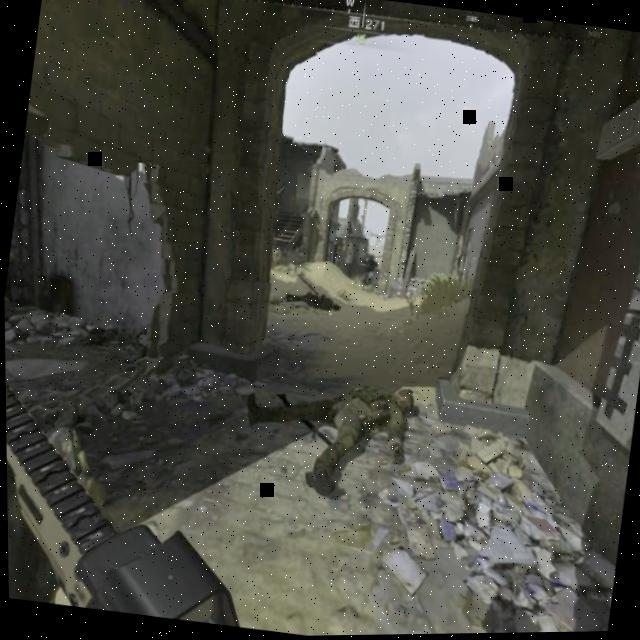MW2_body: (356, 255, 381, 288)
